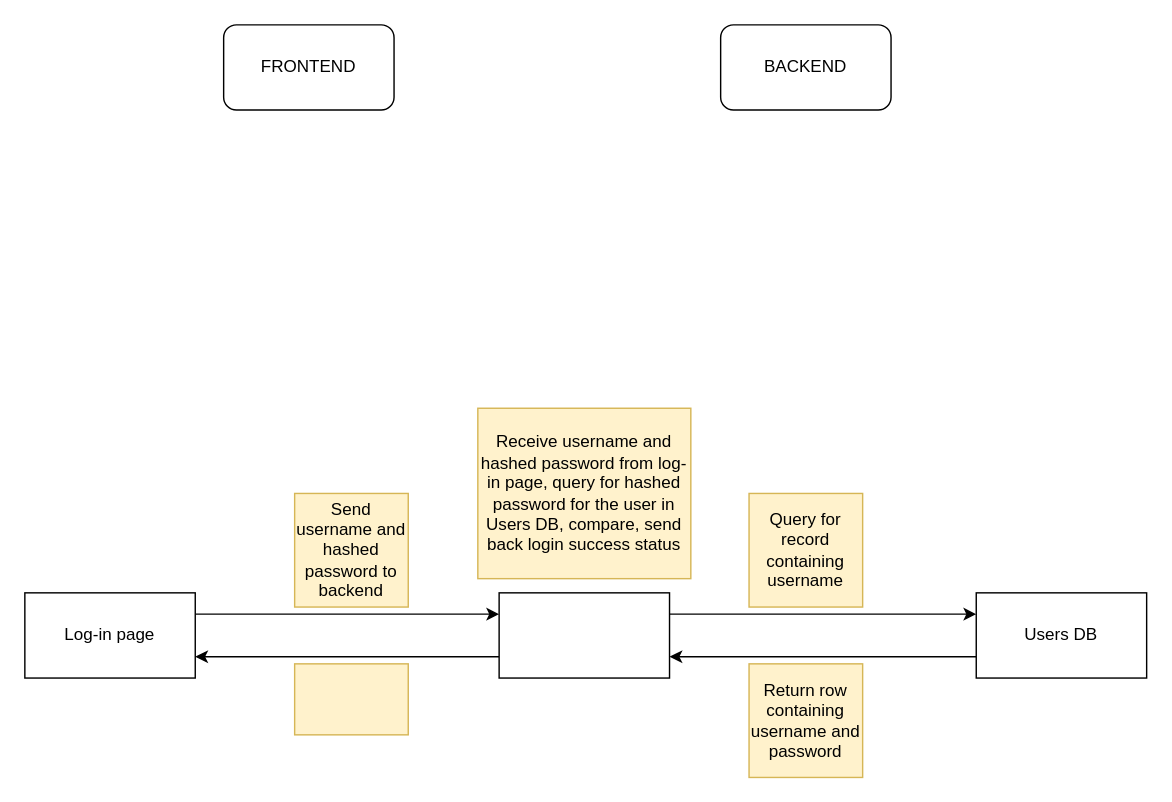
This 1172x802 diagram has some shape labels left out. The shapes that lost their labels are listed below. From the top down, each one's box as (x1, y1, x2, y2) in pixels, then its label:
(498, 591, 670, 678): Log-in Procedure
(293, 662, 408, 735): Return login success - true or false
